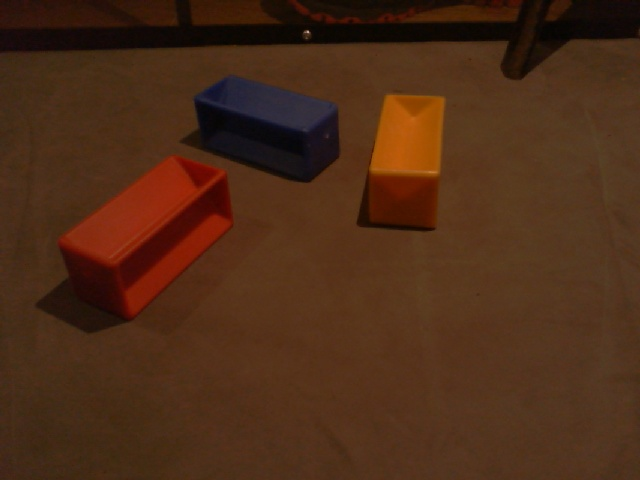BlueSample: (191, 71, 343, 184)
RedSample: (56, 150, 236, 322)
YellowSample: (361, 91, 448, 231)
